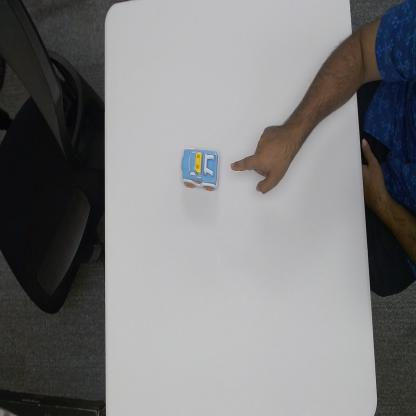Arm: (291, 35, 354, 155)
Car: (179, 146, 221, 193)
Hand: (231, 124, 295, 197)
